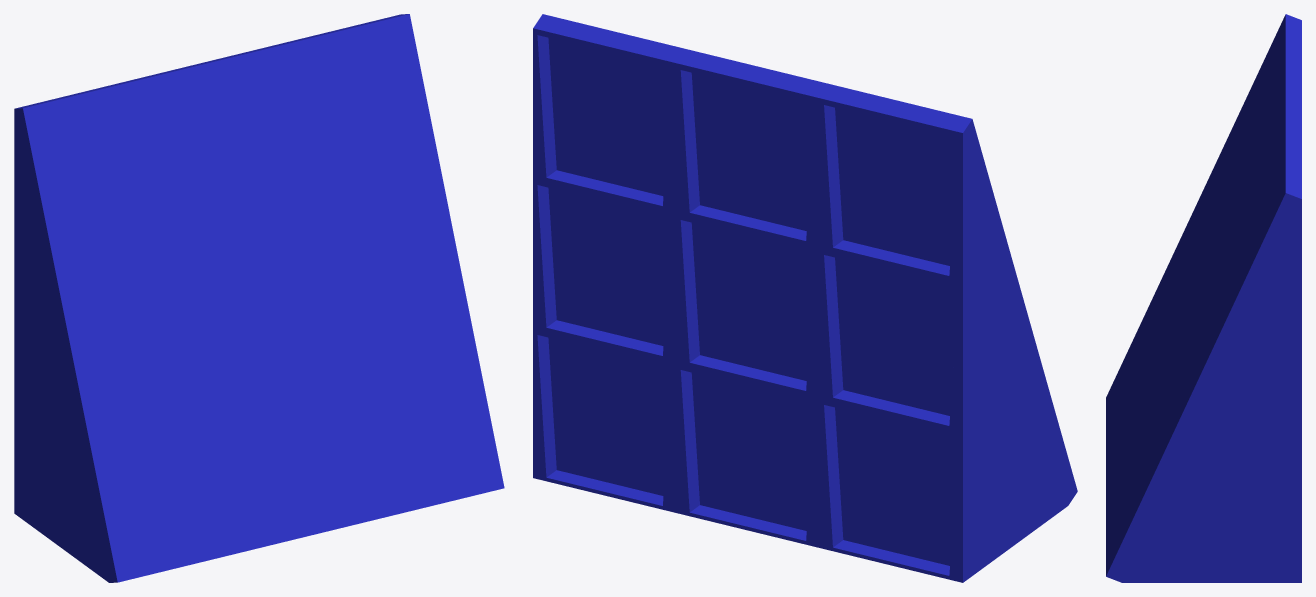
The model's file is Keypad.fbx.
3 renders of one model, left to right at view 1: azimuth 30°, elevation 25°; view 2: azimuth 150°, elevation 25°; view 3: azimuth 270°, elevation 25°, orthographic. The views are drawn at different scales.
Visible parts, largest first — view 1: KeyPad v1; view 2: KeyPad v1; view 3: KeyPad v1.
Boxes of the visible parts, x1,y1,x2,y2 form: KeyPad v1: (14,14,504,582); KeyPad v1: (533,14,1077,582); KeyPad v1: (1106,14,1301,582).
Size of the model in its own units: 4800 by 4878 by 2222.
